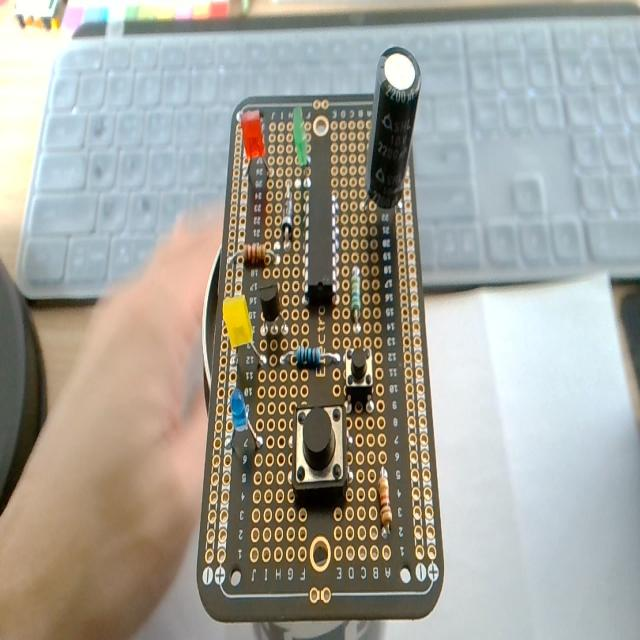Electrolytic capacitor: (366, 46, 422, 208)
IC: (302, 184, 342, 314)
led: (237, 107, 271, 181), (228, 389, 261, 455), (222, 294, 253, 348), (292, 106, 308, 164)
resistor: (277, 343, 344, 366), (377, 472, 392, 530), (350, 261, 362, 333), (243, 244, 275, 267), (282, 188, 293, 242), (296, 346, 322, 368)
switch: (294, 404, 348, 493), (344, 346, 372, 409)
transistor: (258, 277, 288, 335)
